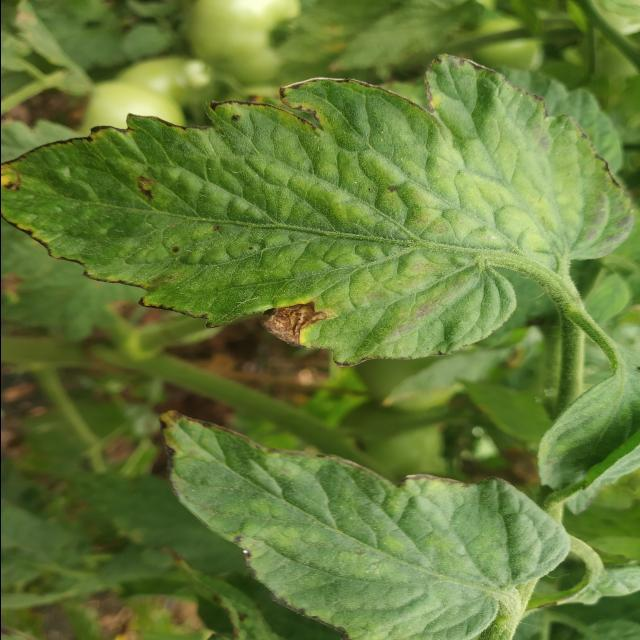Tomato mosaic virus leaf: (1, 71, 352, 349)
